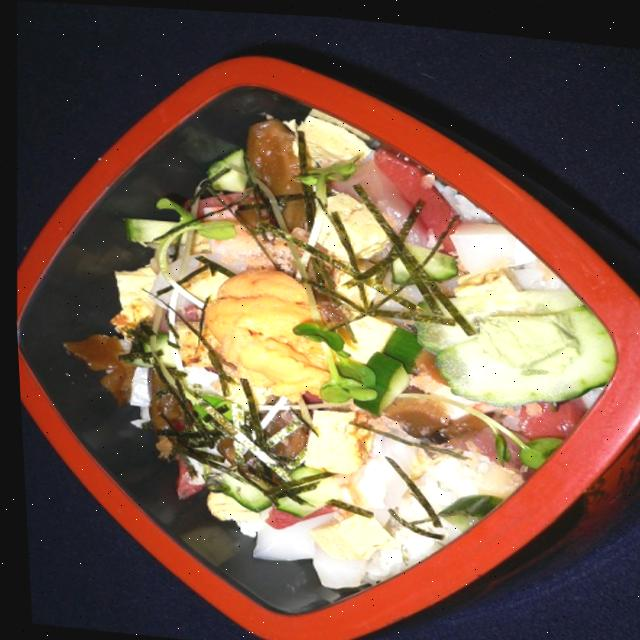寿司卷物: (1, 25, 640, 640)
